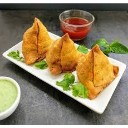samosa: (77, 43, 118, 94), (46, 33, 80, 73), (22, 18, 51, 63)
